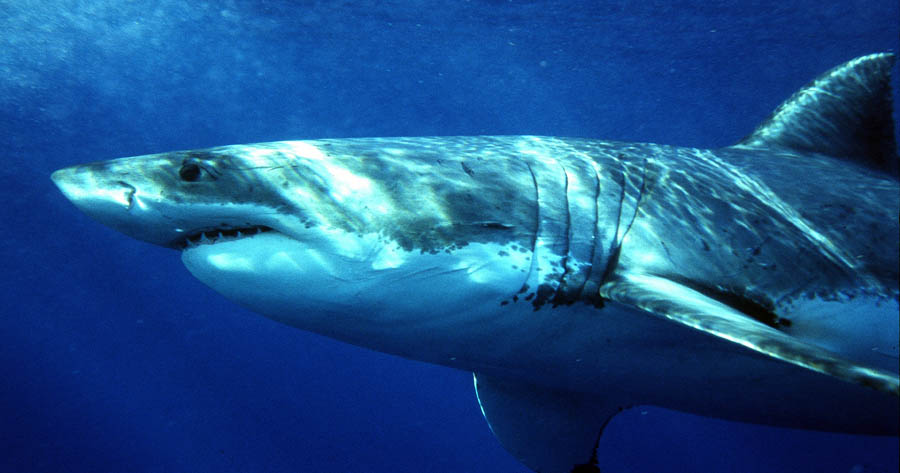Carcharodon_carcharias: (31, 34, 900, 461)
